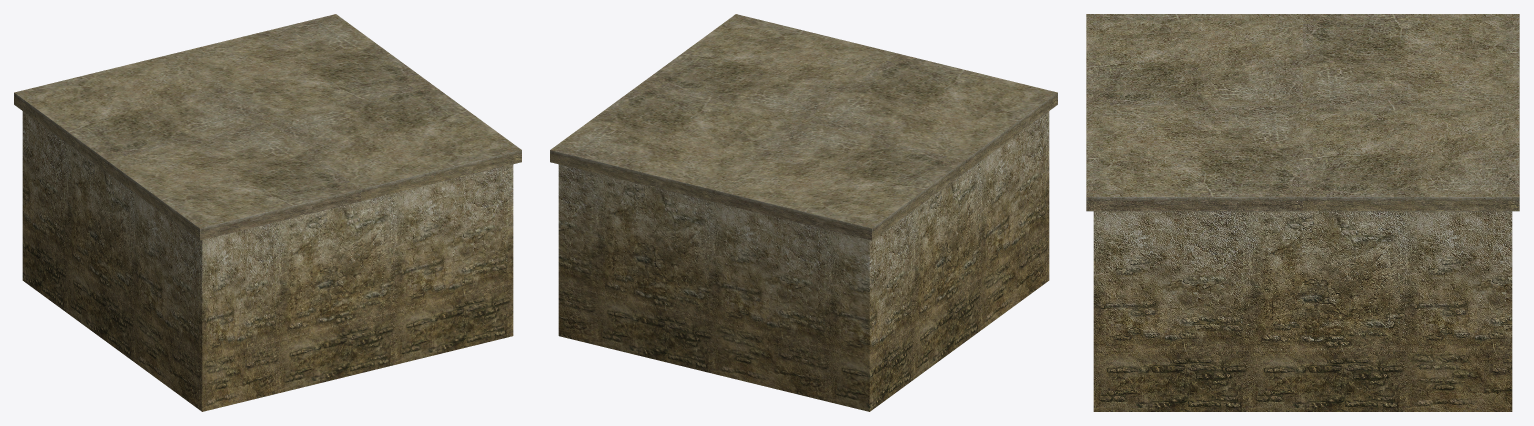
Rendered from hrt_house3.glb.
3 renders of one model, left to right at view 1: azimuth 30°, elevation 25°; view 2: azimuth 150°, elevation 25°; view 3: azimuth 270°, elevation 25°, orthographic. The views are drawn at different scales.
Visible parts, largest first — view 1: hrt_house3-col; view 2: hrt_house3-col; view 3: hrt_house3-col.
Part boxes in pixels (box(x1,y1,x2,y2)): hrt_house3-col: box(14, 14, 521, 411); hrt_house3-col: box(550, 14, 1057, 411); hrt_house3-col: box(1086, 14, 1519, 411).
Bounding box in the file's own units: 8.28 × 4.6 × 8.28.
Materials: 5 (5 with a texture image).
